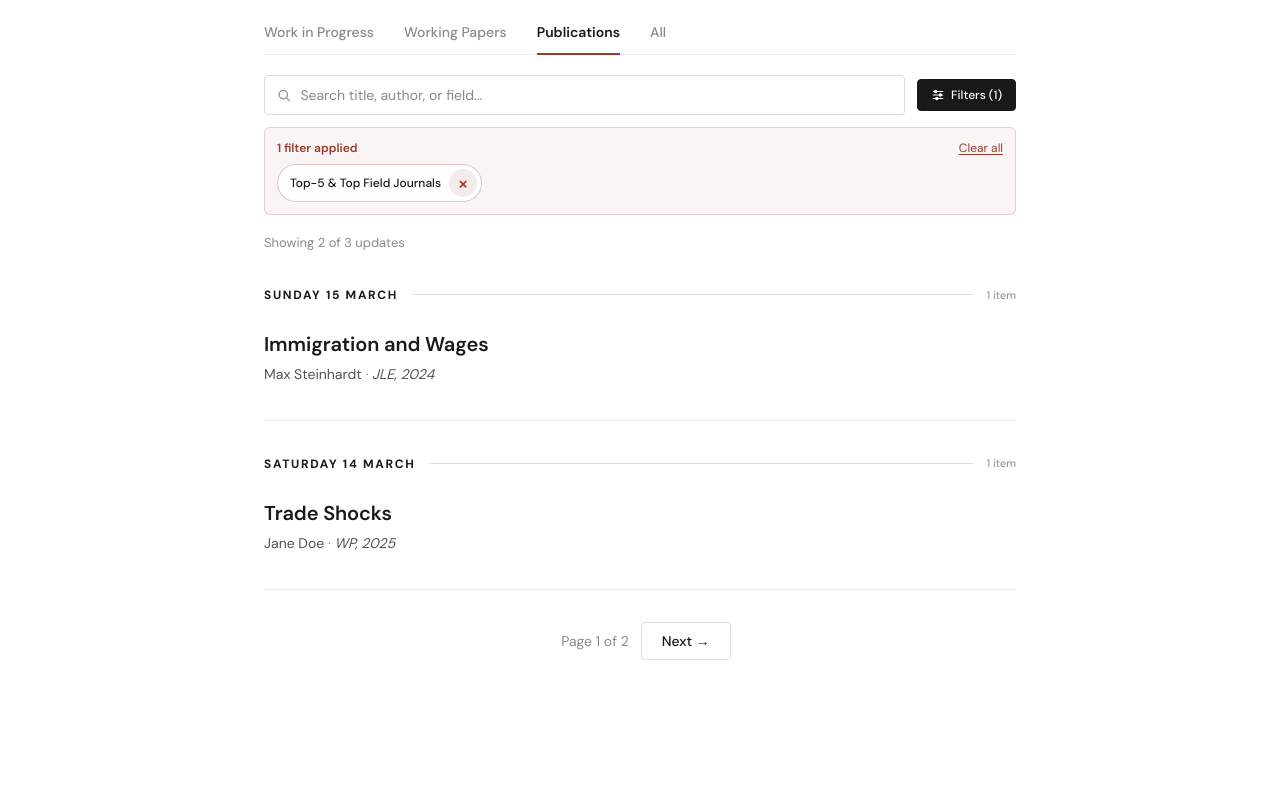
Scenario: feed control regressions › keeps closed filters out of keyboard navigation and traps/restores focus when open
Expected: the link "Immigration and Wages" is shown, [264,331,488,357]
Click the button "Filters (1)".
click(967, 95)  # box [917,79,1016,111]
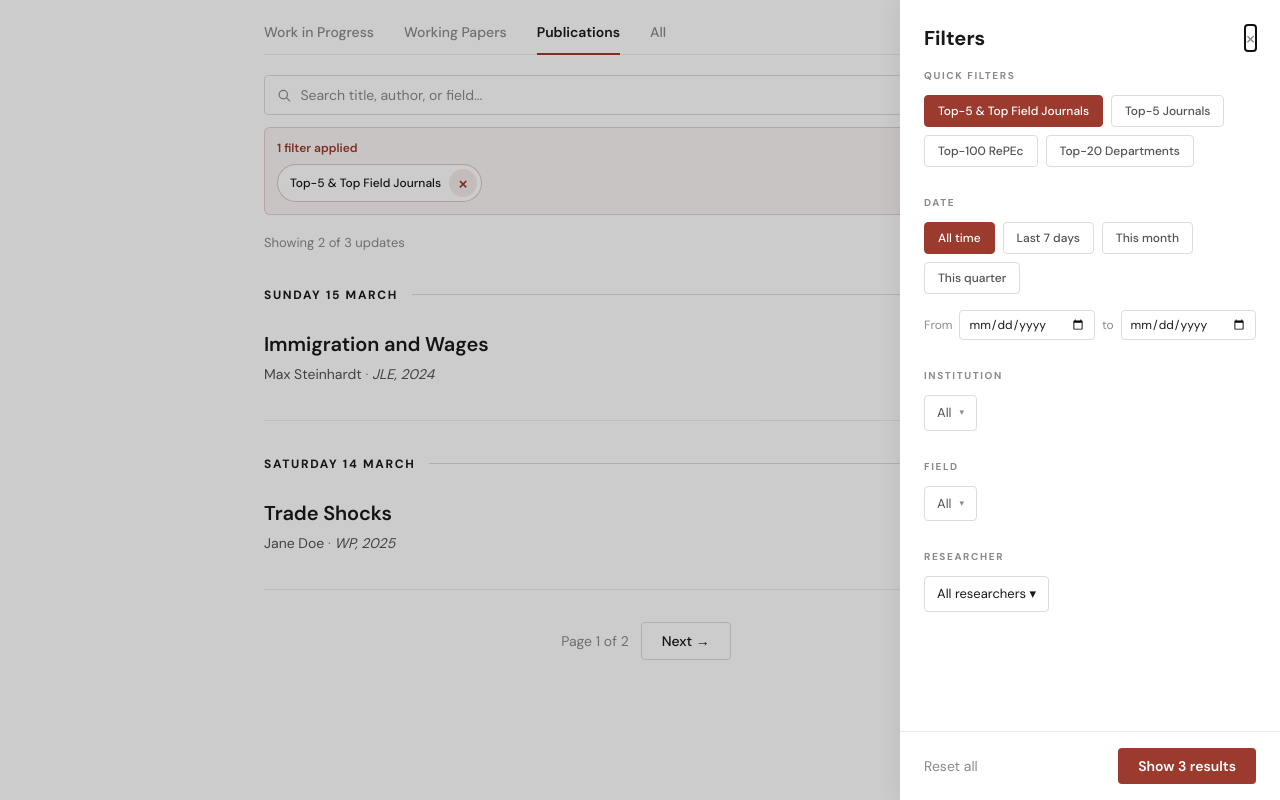
Press Shift+Tab
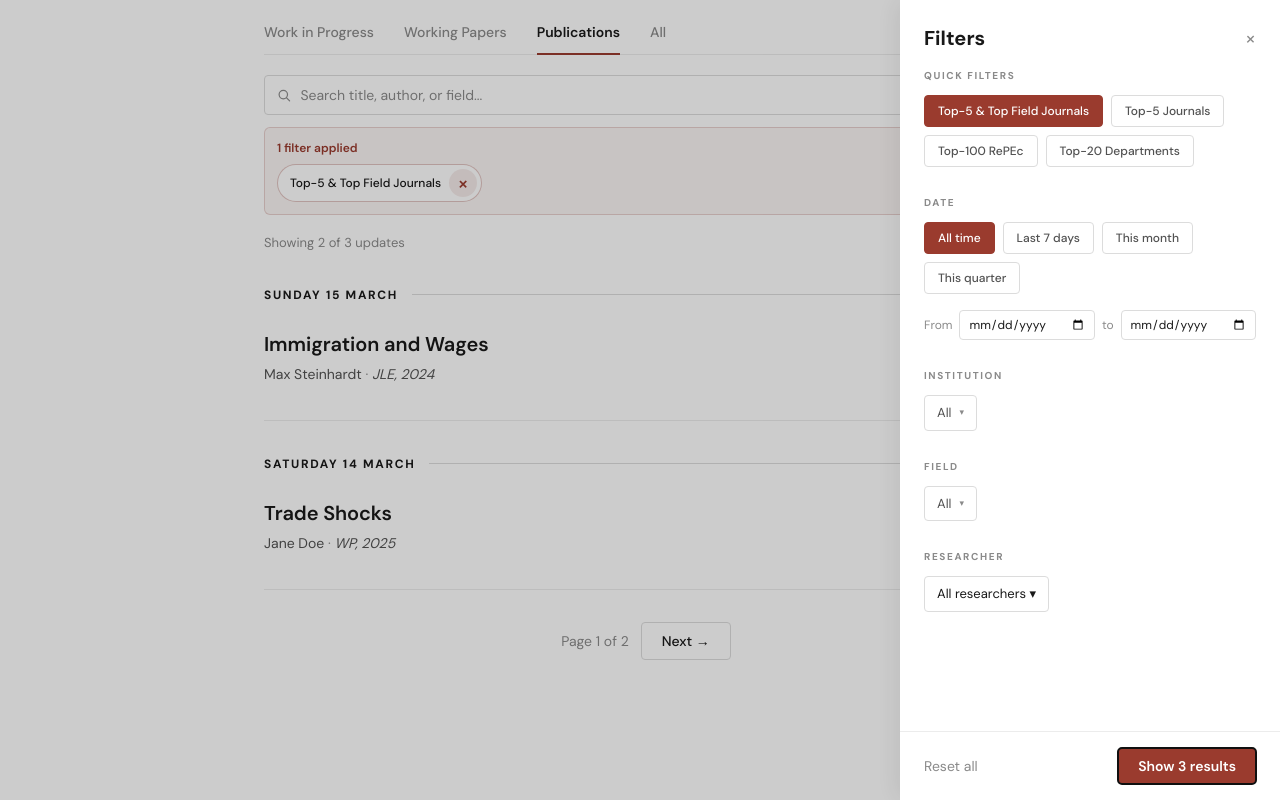
Press Tab
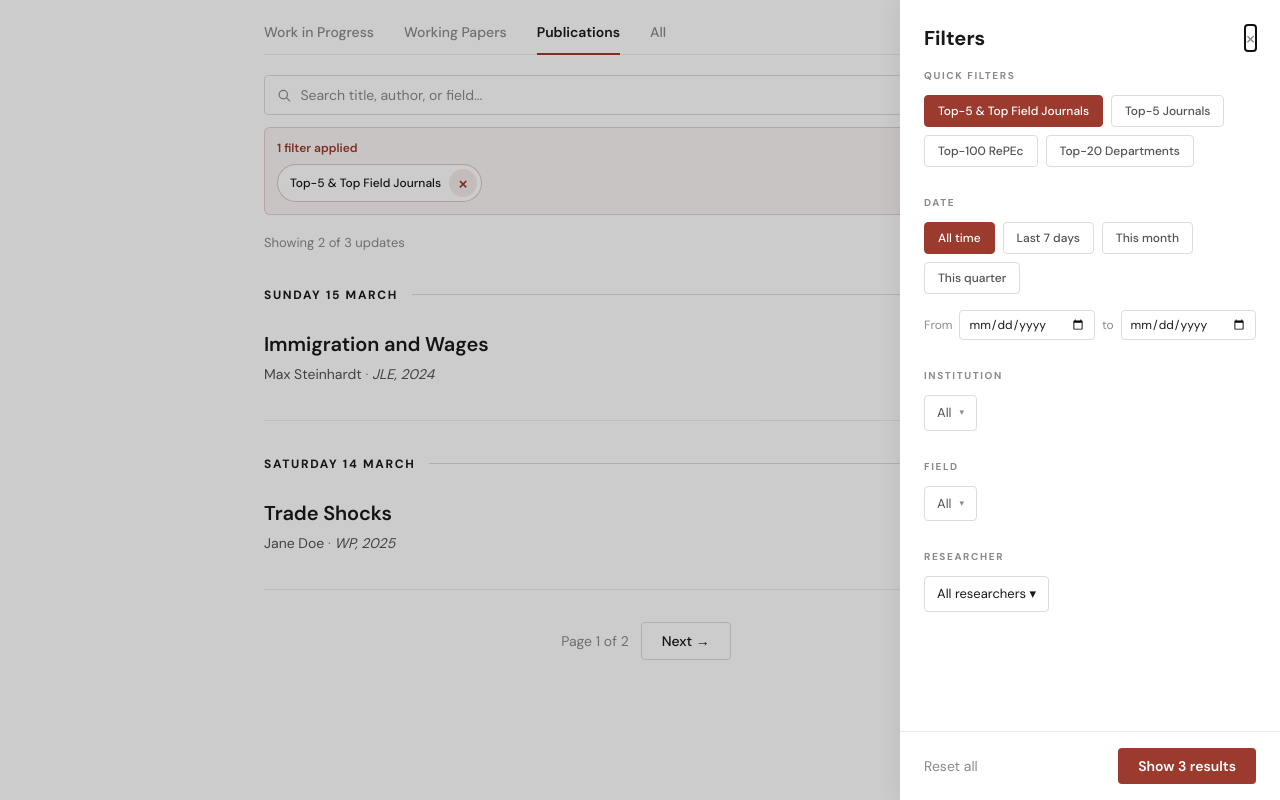
Press Escape
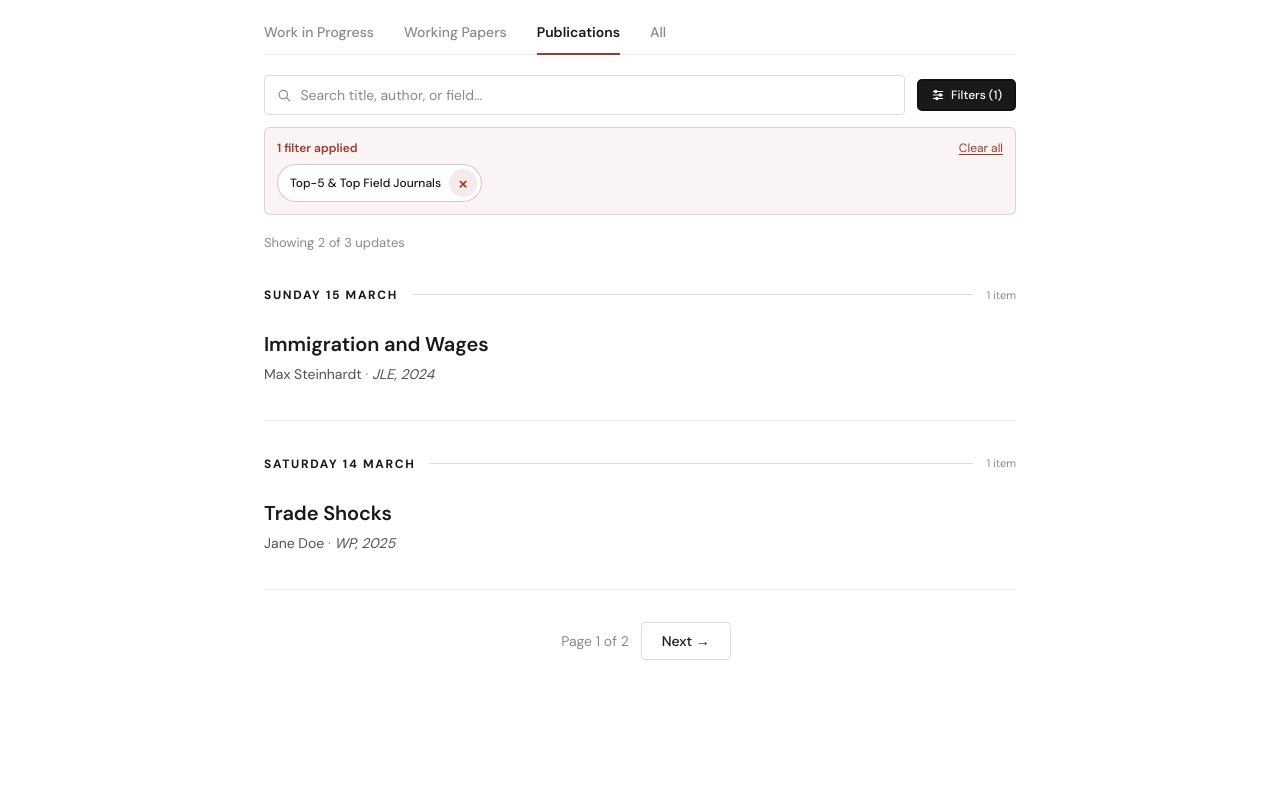
Expected: the dialog is gone
